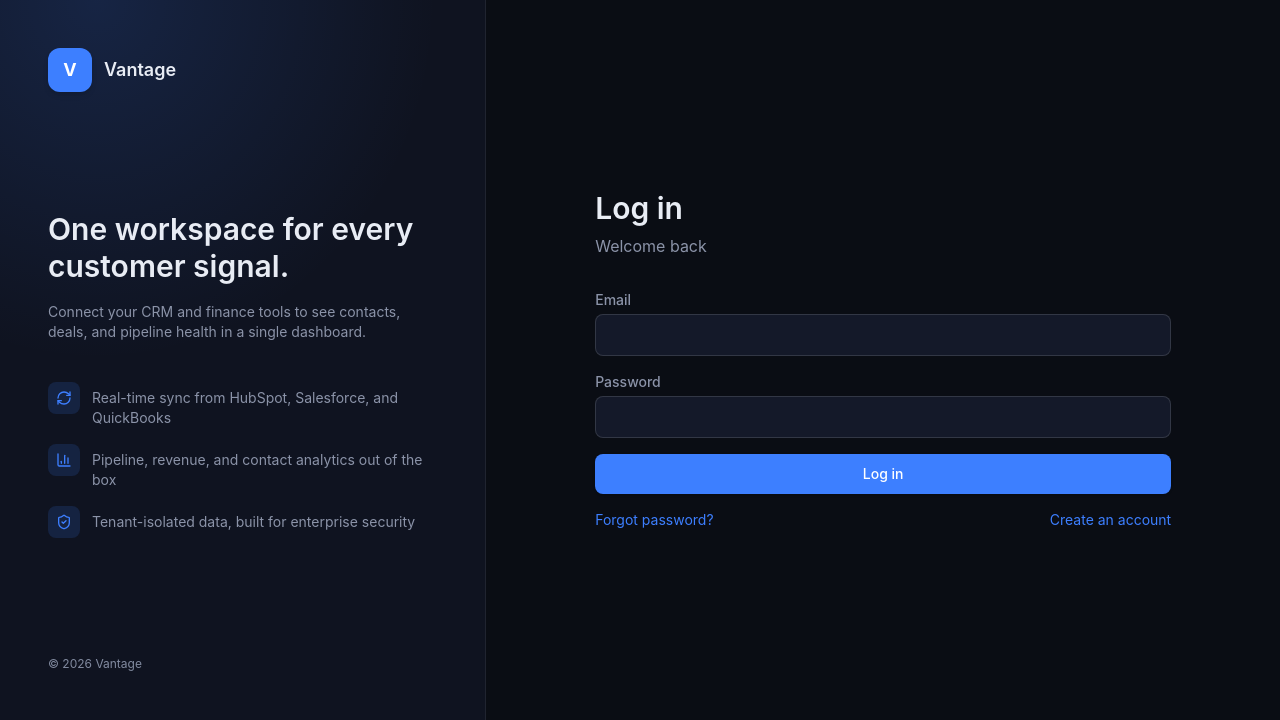
Test: LoginPage › shows an error for invalid credentials
The width and height of the screenshot is (1280, 720).
Type "wrong@example.com" into the field labelled "Email".
click(883, 335); type("wrong@example.com")  # box [595, 314, 1171, 356]
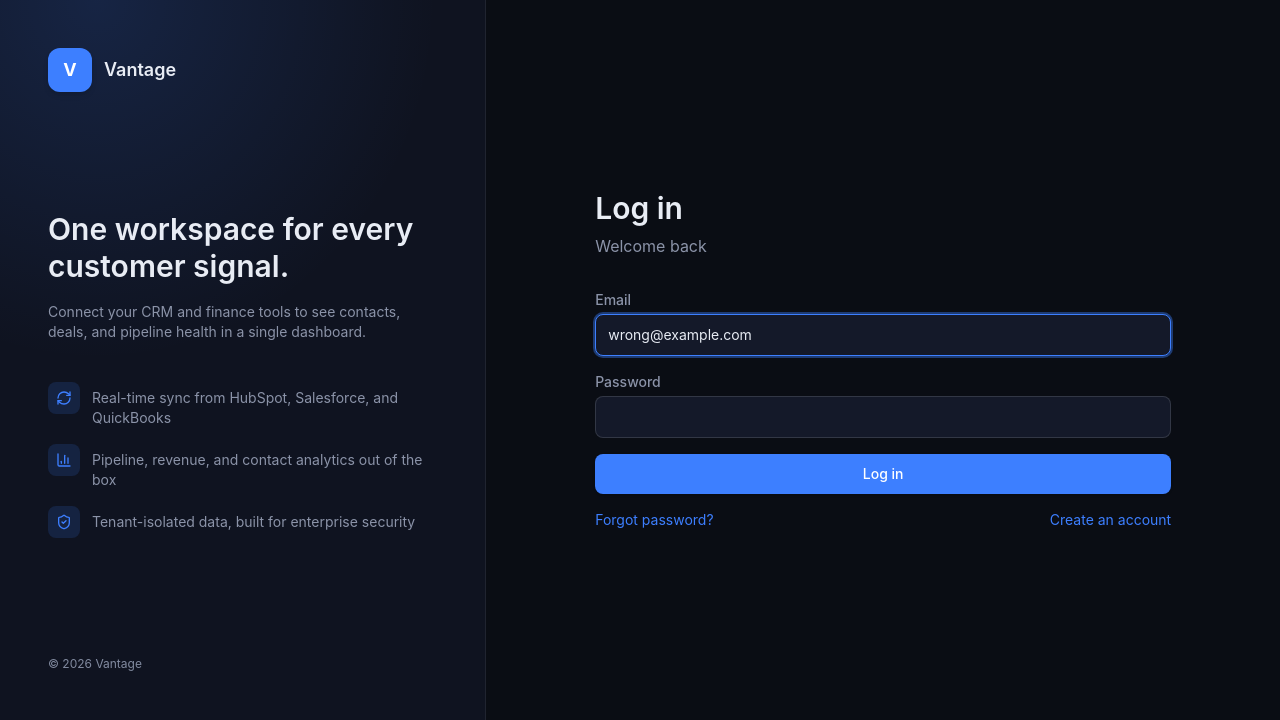
Type "WrongPass123" into the password field labelled "Password".
click(883, 417); type("WrongPass123")  # box [595, 396, 1171, 438]
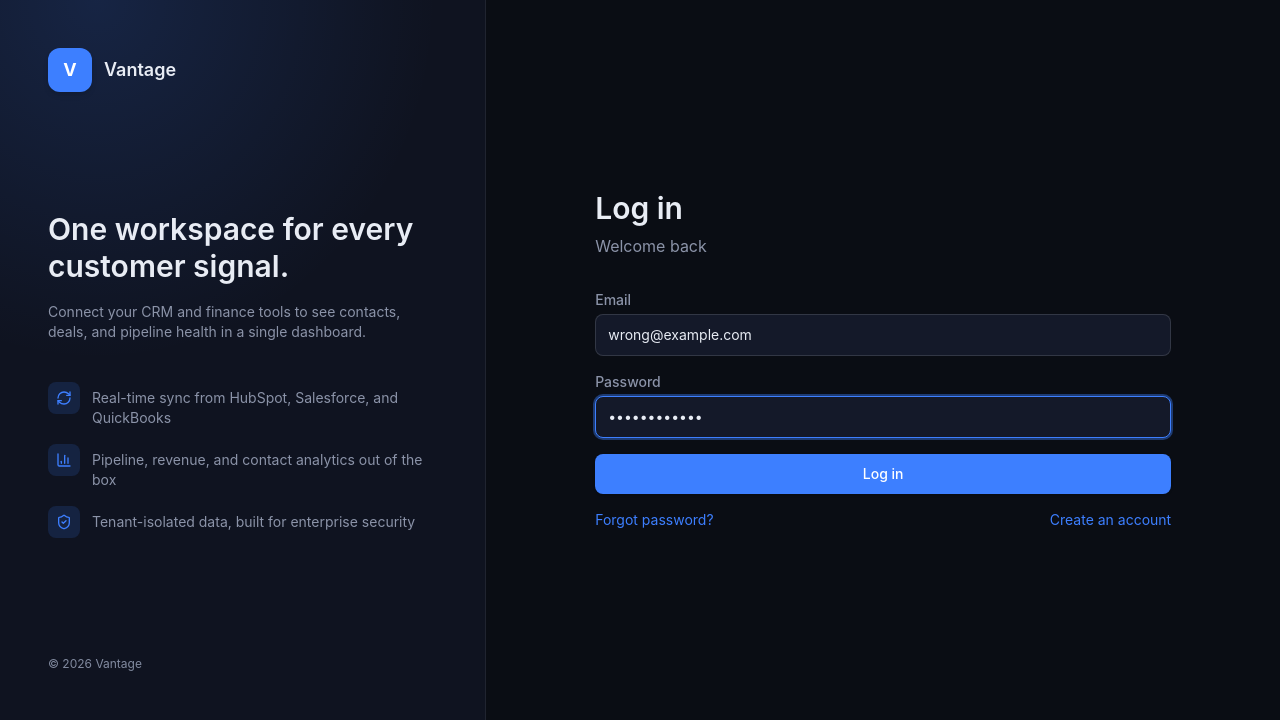
Click the button "Log in".
click(883, 474)  # box [595, 454, 1171, 494]
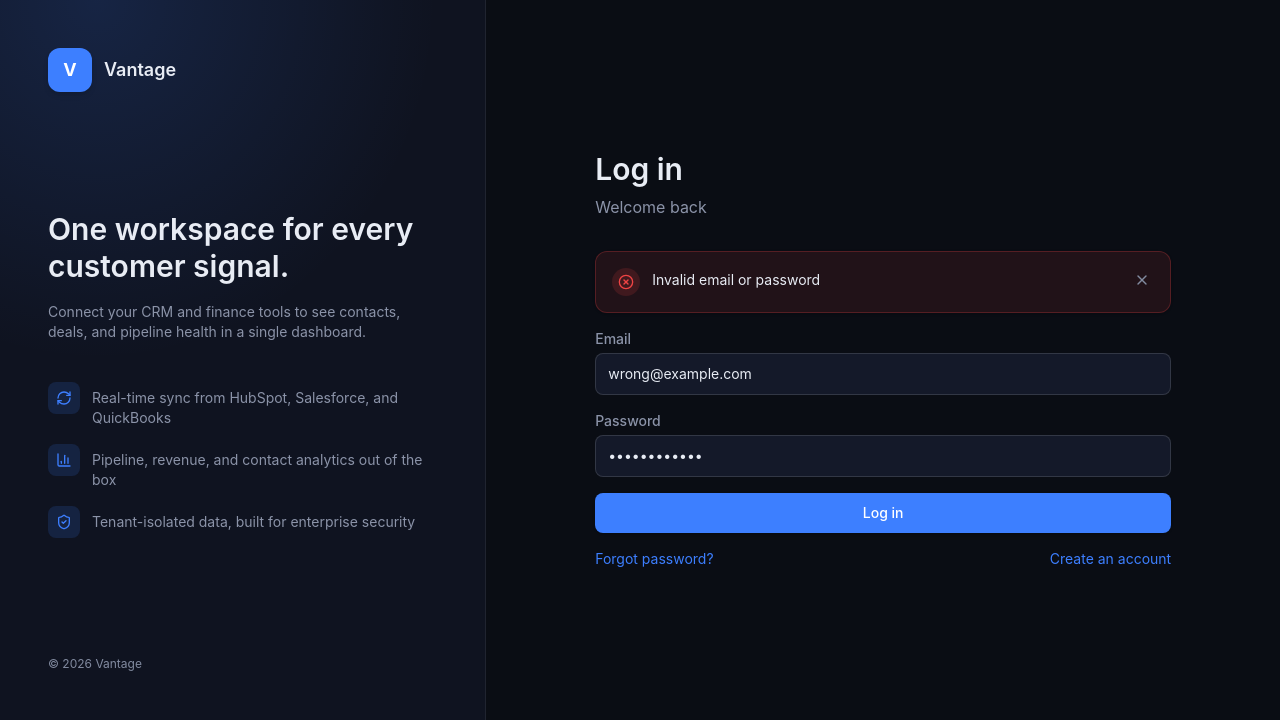
Result: the text "Invalid email or password" is shown at [652, 271, 820, 288]
